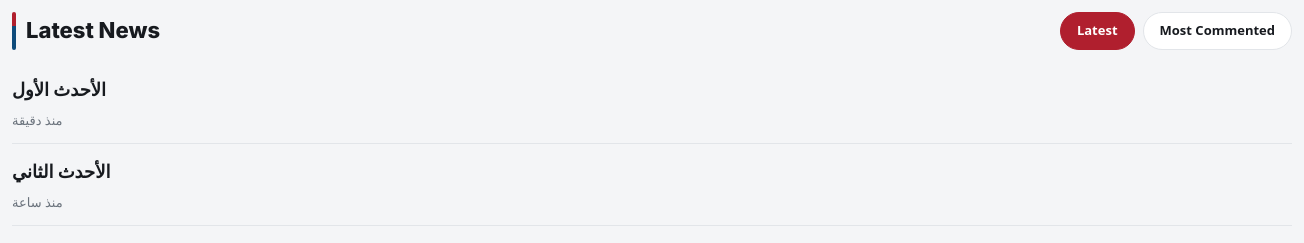
Test case: LatestNewsTabs › states the empty case in English too
Click the button "Most Commented" at [1217, 31], box top-left (1143, 12), bottom-right (1292, 50)
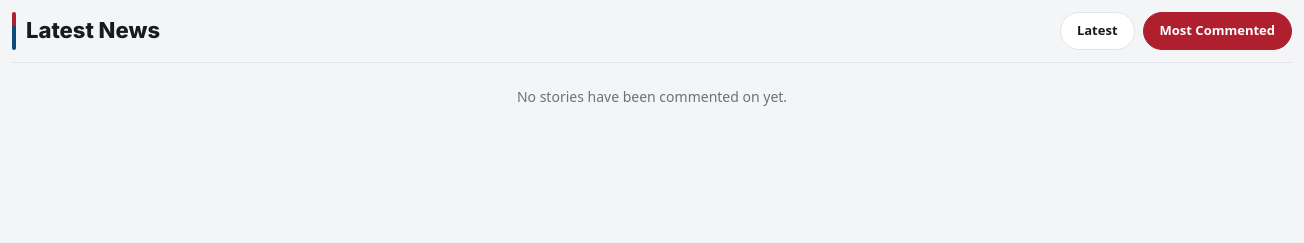
Now the text "No stories have been commented on yet." is shown, box top-left (12, 62), bottom-right (1292, 130)
